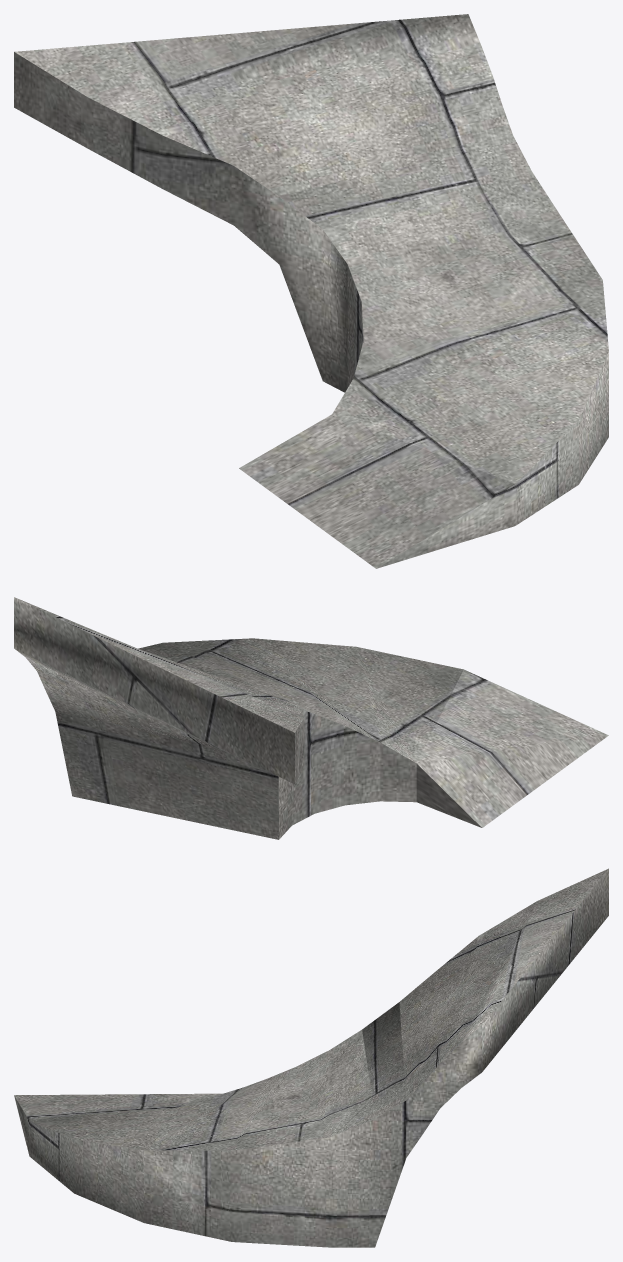
Rendered from WestStair_Stair_Collider.fbx.
The picture shows the model from 3 angles, top to bottom: view 1: azimuth 30°, elevation 25°; view 2: azimuth 150°, elevation 25°; view 3: azimuth 270°, elevation 25°; orthographic projection. The views are drawn at different scales.
Parts seen in each view (by area): view 1: staircube; view 2: staircube; view 3: staircube.
Part boxes in pixels (box(x1,y1,x2,y2)): staircube: box(14, 14, 608, 568); staircube: box(14, 597, 608, 839); staircube: box(14, 868, 608, 1247).
Bounding box in the file's own units: 1241 × 820 × 1989.
